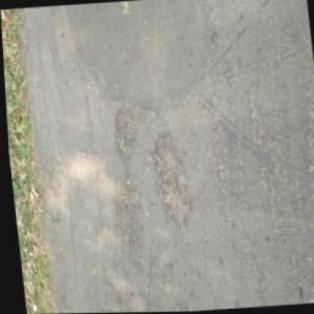Hueco: (146, 129, 192, 232), (108, 183, 144, 254), (107, 107, 138, 162)
